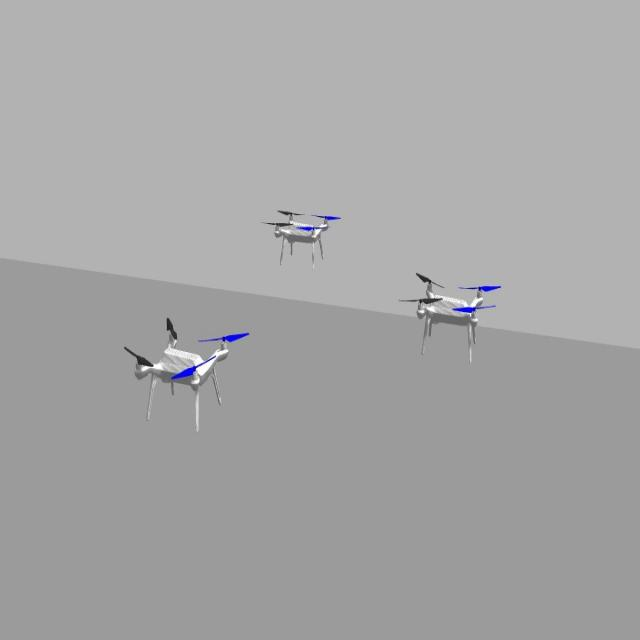Drone: (264, 199, 342, 272)
